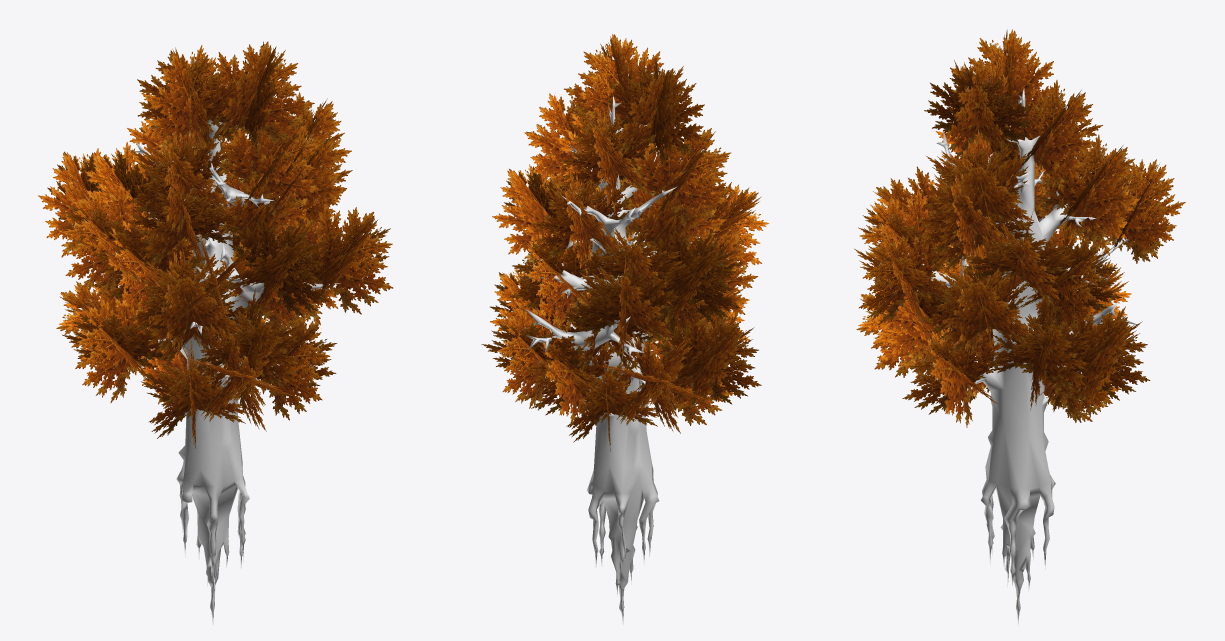
File: scenictree.fbx
3 views of the same model, side by side, from view 1: azimuth 30°, elevation 25°; view 2: azimuth 150°, elevation 25°; view 3: azimuth 270°, elevation 25° (orthographic). The views are drawn at different scales.
Parts seen in each view (by area): view 1: Plane, tripo_node_bcaae175; view 2: Plane, tripo_node_bcaae175; view 3: Plane, tripo_node_bcaae175.
Boxes of the visible parts, bbox=[...] form: Plane: bbox=[38, 41, 393, 448]; tripo_node_bcaae175: bbox=[119, 68, 340, 625]; Plane: bbox=[481, 34, 769, 451]; tripo_node_bcaae175: bbox=[525, 96, 700, 624]; Plane: bbox=[854, 29, 1185, 427]; tripo_node_bcaae175: bbox=[907, 88, 1138, 625].
Bounding box in the file's own units: 3645 × 6600 × 3813.
Materials: 105 (105 with a texture image).
